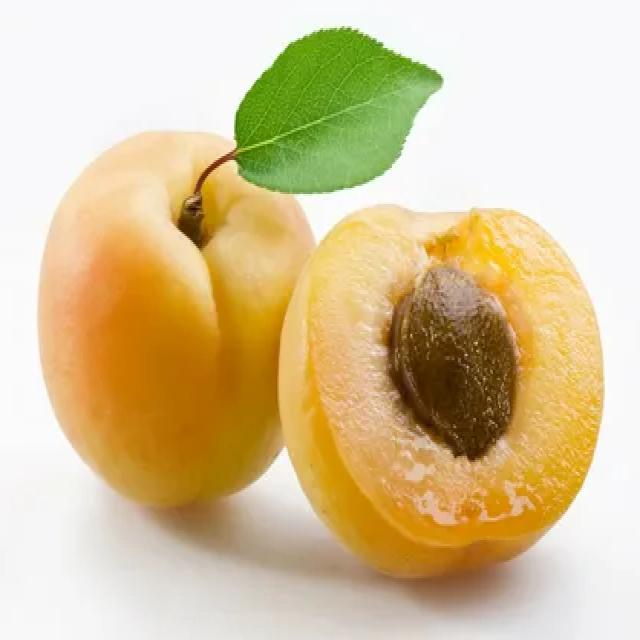Cekirdek: (389, 264, 516, 456)
Kayisi: (280, 206, 602, 574)
Yaprak: (231, 28, 441, 192)
